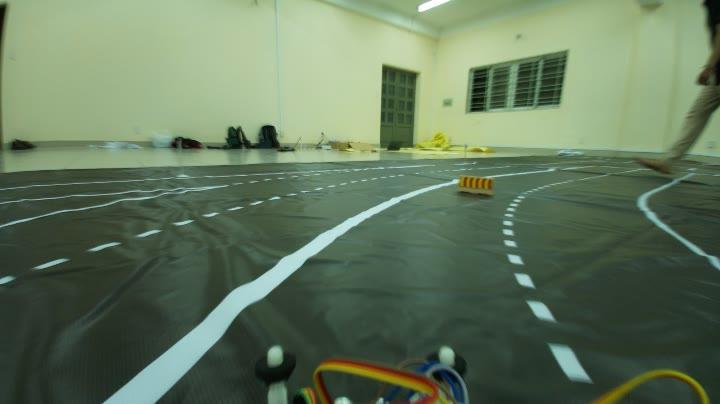roadblock: (452, 169, 496, 196)
